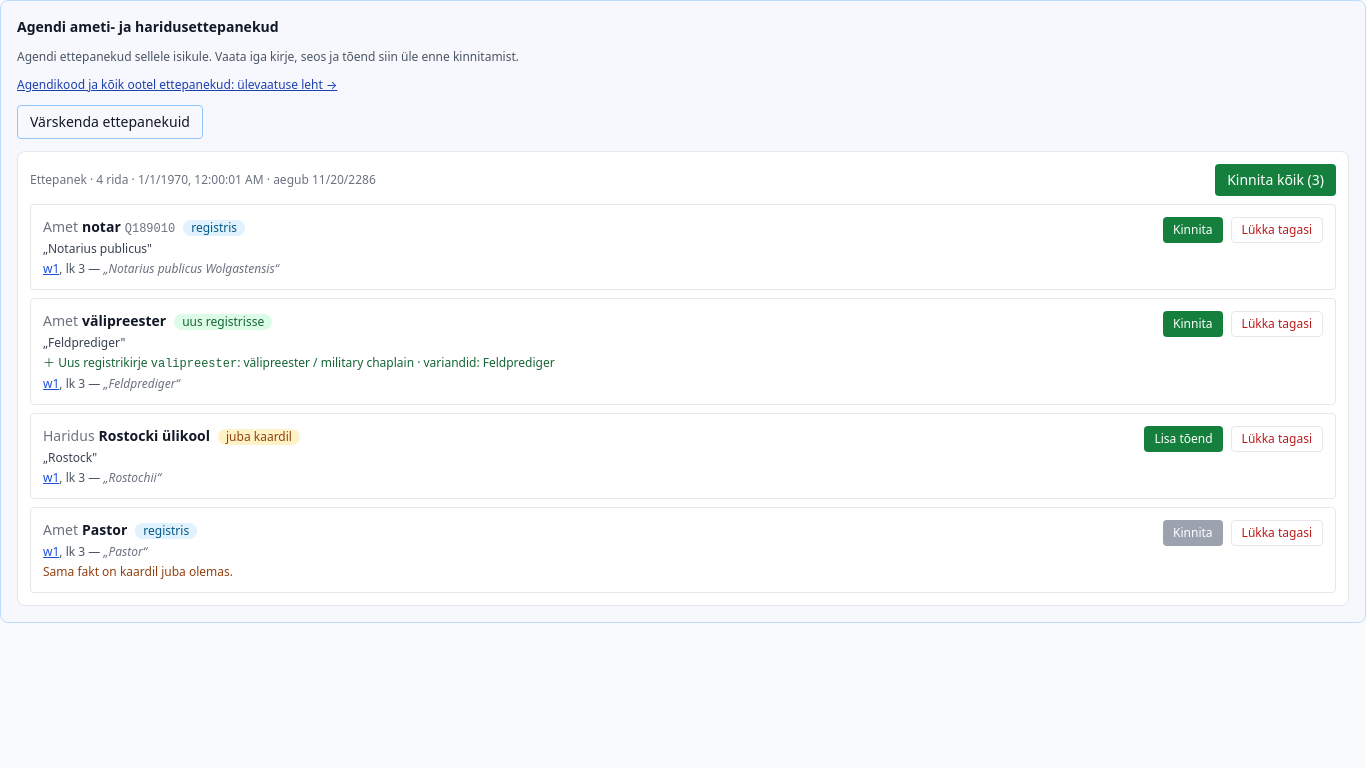
Test: agendi ettepanekute ülevaatus › eelkontrolli viga näidatakse real ja öeldakse, et midagi ei salvestatud
Click the button "Kinnita kõik (3)" at (1276, 180), box [1215, 164, 1336, 196]
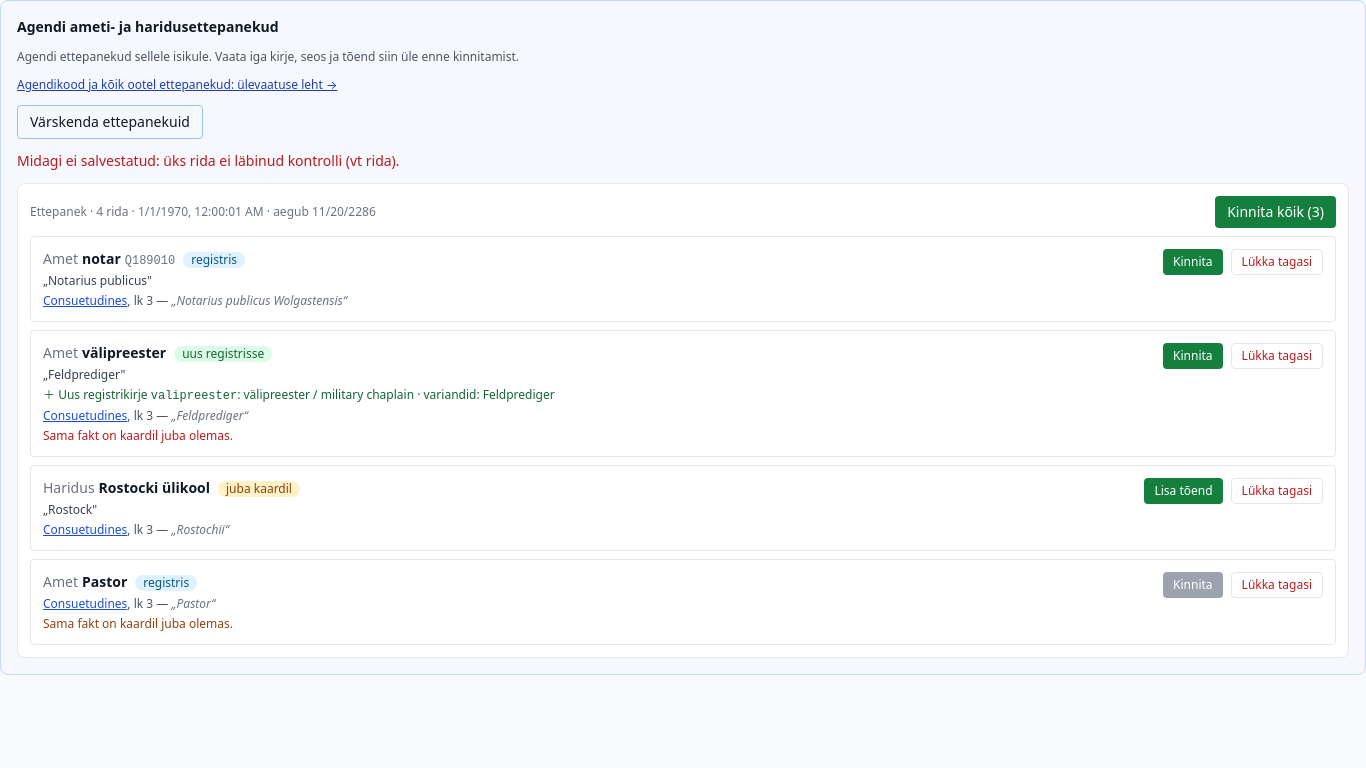
Expected: the text "Midagi ei salvestatud: üks rida ei läbinud kontrolli (vt rida)." is shown, [17, 151, 400, 170]
Expected: the text "Sama fakt on kaardil juba olemas." is shown 2 times, [43, 427, 233, 444]; [43, 615, 233, 632]
